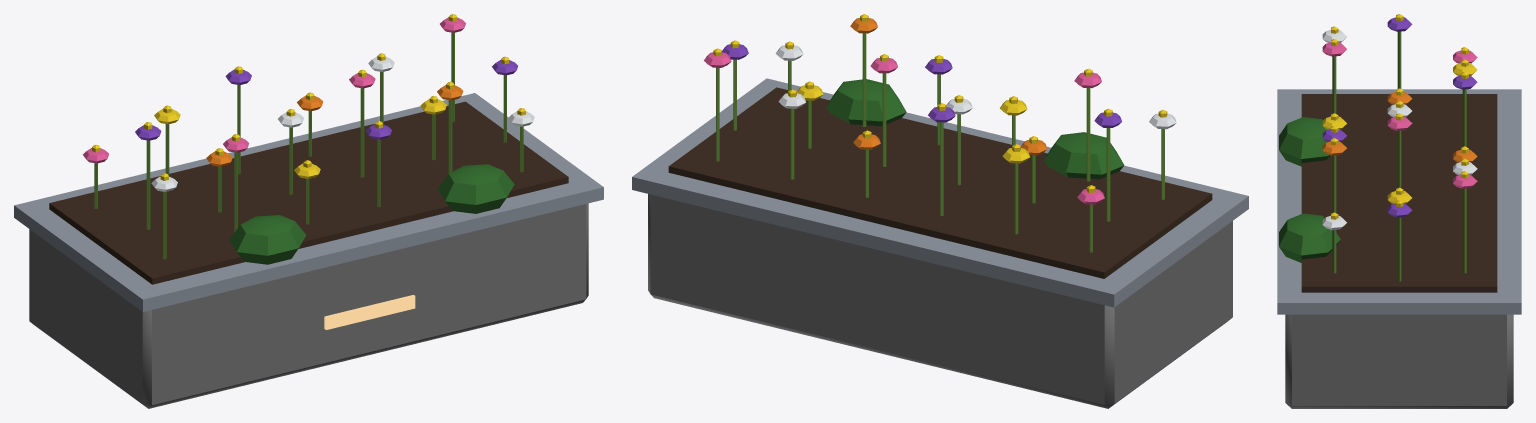
Rendered from planter_flower_bed_planter.glb.
3 renders of one model, left to right at view 1: azimuth 30°, elevation 25°; view 2: azimuth 150°, elevation 25°; view 3: azimuth 270°, elevation 25°, orthographic. The views are drawn at different scales.
Parts seen in each view (by area): view 1: planter_flower_bed_planter; view 2: planter_flower_bed_planter; view 3: planter_flower_bed_planter.
Part boxes in pixels (x1=…): planter_flower_bed_planter: x1=14, y1=14, x2=603, y2=408; planter_flower_bed_planter: x1=632, y1=14, x2=1248, y2=408; planter_flower_bed_planter: x1=1277, y1=14, x2=1521, y2=408.
Bounding box in the file's own units: 1.55 × 0.745 × 0.75.
